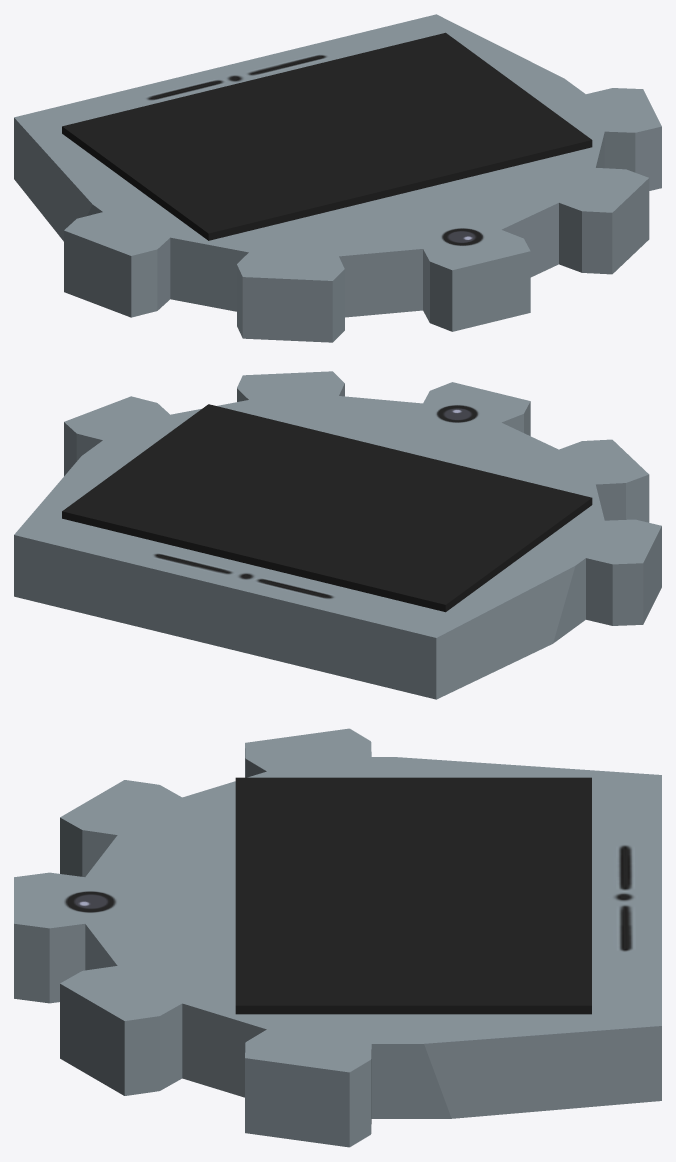
Rendered from M_GearPad_OR.fbx.
The picture shows the model from 3 angles, top to bottom: view 1: azimuth 30°, elevation 25°; view 2: azimuth 150°, elevation 25°; view 3: azimuth 270°, elevation 25°; orthographic projection. The views are drawn at different scales.
Visible parts, largest first — view 1: GearPad, Screen; view 2: GearPad, Screen; view 3: GearPad, Screen.
Boxes of the visible parts, x1,y1,x2,y2 form: GearPad: [14, 14, 661, 342]; Screen: [62, 32, 592, 240]; GearPad: [14, 371, 661, 699]; Screen: [62, 404, 592, 612]; GearPad: [14, 728, 661, 1147]; Screen: [235, 777, 591, 1014].
Bounding box in the file's own units: 5.03 × 0.5728 × 4.01.
1 material, 1 textured.
